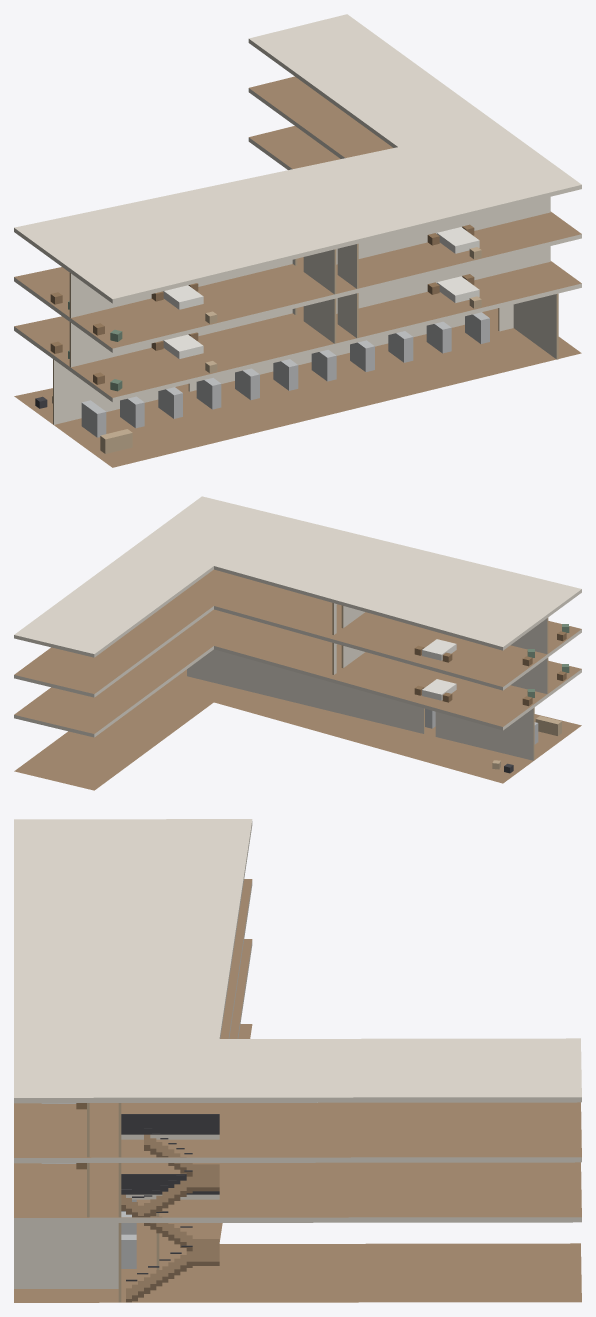
The model's file is interior.glb.
3 renders of one model, top to bottom at view 1: azimuth 30°, elevation 25°; view 2: azimuth 150°, elevation 25°; view 3: azimuth 270°, elevation 25°, orthographic. The views are drawn at different scales.
Parts seen in each view (by area): view 1: slabs, partitions, coarse-s0, coarse-s1, coarse-s2; view 2: slabs, partitions, coarse-s2, coarse-s1, coarse-s0; view 3: slabs, stair, partitions, coarse-s0.
Boxes of the visible parts, box(x1,y1,x2,y2) form: slabs: box(14, 14, 581, 467); partitions: box(53, 197, 558, 424); coarse-s0: box(35, 312, 489, 453); coarse-s1: box(50, 274, 481, 391); coarse-s2: box(50, 224, 481, 341); slabs: box(14, 496, 581, 790); partitions: box(187, 603, 548, 760); coarse-s2: box(414, 624, 569, 666); coarse-s1: box(414, 664, 569, 706); coarse-s0: box(425, 708, 561, 773); slabs: box(14, 819, 581, 1302); stair: box(121, 1114, 219, 1302); partitions: box(14, 1103, 159, 1302); coarse-s0: box(121, 1199, 136, 1268).
Size of the model in its own units: 29.41 by 10.1 by 25.31.
